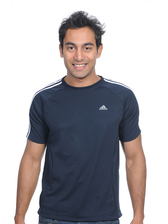clothoes: (22, 74, 147, 219)
